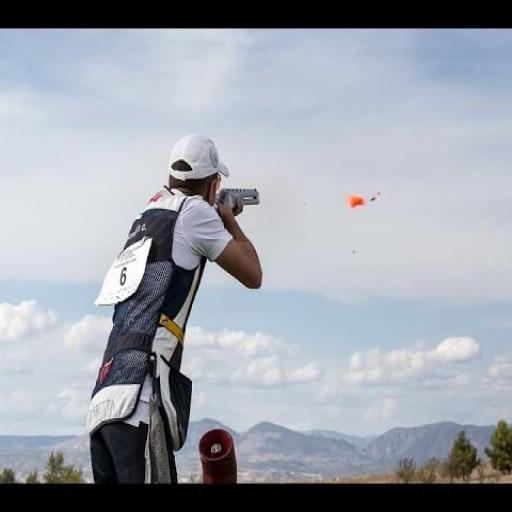shooting: (85, 131, 266, 485)
